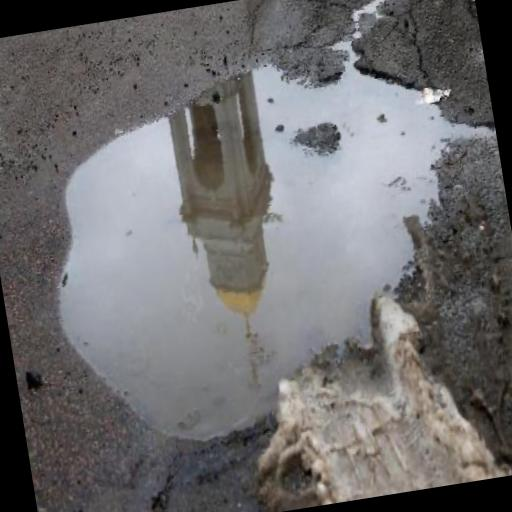pothole: (22, 21, 512, 460)
